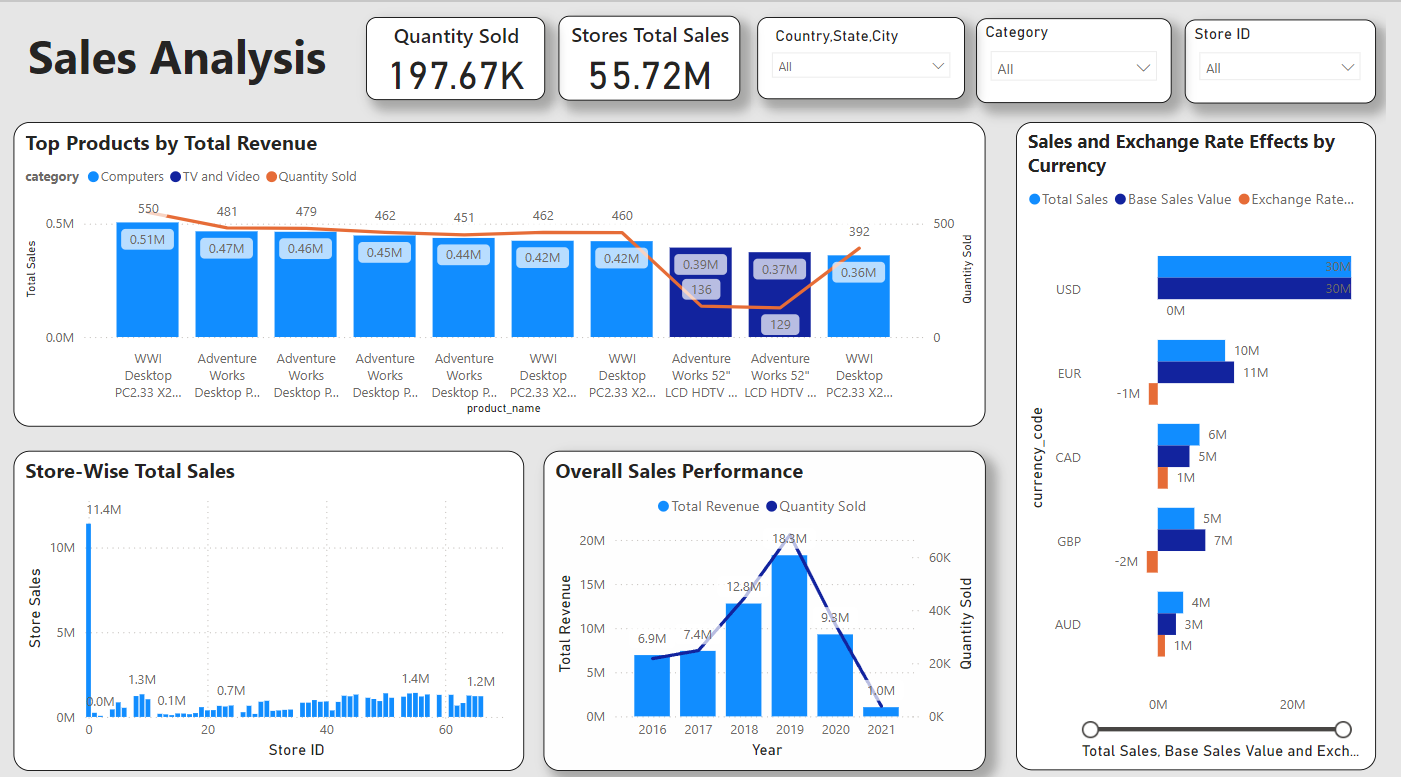

The page's visual inventory and layout, read from the dashboard file:
{"tool":"powerbi","page":{"name":"Sales Analysis","canvas":[1280,720],"ordinal":1},"visuals":[{"type":"slicer","title":"Store ID","fields":{"Values":["sales by stores.country","sales by stores.storekey"]},"box":[1094.3,16.7,176.4,77.5],"z":0},{"type":"slicer","title":"Category","fields":{"Values":["sales by product.category"]},"box":[901.2,15.5,181.2,78.7],"z":1000},{"type":"lineStackedColumnComboChart","title":"Top Products by Total Revenue","fields":{"Category":["sales by product.product_name"],"Y":["Sum(sales by product.sales_amount)"],"Y2":["Sum(sales by product.total_quantity_sold)"],"Series":["sales by product.category"]},"box":[11.9,110.9,898.8,281.3],"z":2000},{"type":"clusteredBarChart","title":"Sales and Exchange Rate Effects by Currency","fields":{"Category":["sales by currency.currency_code"],"Y":["Sum(sales by currency.total_sales_in_usd)","Sum(sales by currency.base_sales_value)","Sum(sales by currency.exchange_rate_impact)"]},"box":[938.1,110.9,332.6,599.6],"z":4000},{"type":"lineClusteredColumnComboChart","title":"Overall Sales Performance","fields":{"Category":["overall performance.order_year"],"Y":["Sum(overall performance.total_sales_value)"],"Y2":["Sum(overall performance.total_quantity)"]},"box":[501.8,414.8,408.9,295.6],"z":5000},{"type":"columnChart","title":"Store-Wise Total Sales ","fields":{"Category":["sales by stores.storekey"],"Y":["Sum(sales by stores.store_total_sales)"]},"box":[11.9,414.8,472,295.6],"z":6000},{"type":"slicer","fields":{"Values":["sales by stores.country","sales by stores.state","sales by stores.city"]},"box":[698.5,14.3,191.9,76.3],"z":7000},{"type":"textbox","box":[19.9,14.7,297,78.7],"z":8000},{"type":"card","title":"Stores Total Sales","fields":{"Values":["Sum(sales by stores.store_total_sales)"]},"box":[515,13.1,168.1,78.7],"z":9000},{"type":"card","title":"Quantity Sold","fields":{"Values":["Sum(sales by stores.Total_quantity)"]},"box":[336.8,13.6,165.8,76.6],"z":10000}]}

Visuals, with their boxes in screenshot pixels (x1, y1, x2, y2), scaled from the page's 1280x720 canvas onto the 1401x777 screenshot:
"Store ID" slicer: crop(1198, 18, 1391, 102)
"Category" slicer: crop(986, 17, 1185, 102)
"Top Products by Total Revenue" lineStackedColumnComboChart: crop(13, 120, 997, 423)
"Sales and Exchange Rate Effects by Currency" clusteredBarChart: crop(1027, 120, 1391, 767)
"Overall Sales Performance" lineClusteredColumnComboChart: crop(549, 448, 997, 767)
"Store-Wise Total Sales " columnChart: crop(13, 448, 530, 767)
slicer - sales by stores.country x sales by stores.state: crop(765, 15, 975, 98)
textbox: crop(22, 16, 347, 101)
"Stores Total Sales" card: crop(564, 14, 748, 99)
"Quantity Sold" card: crop(369, 15, 550, 97)
